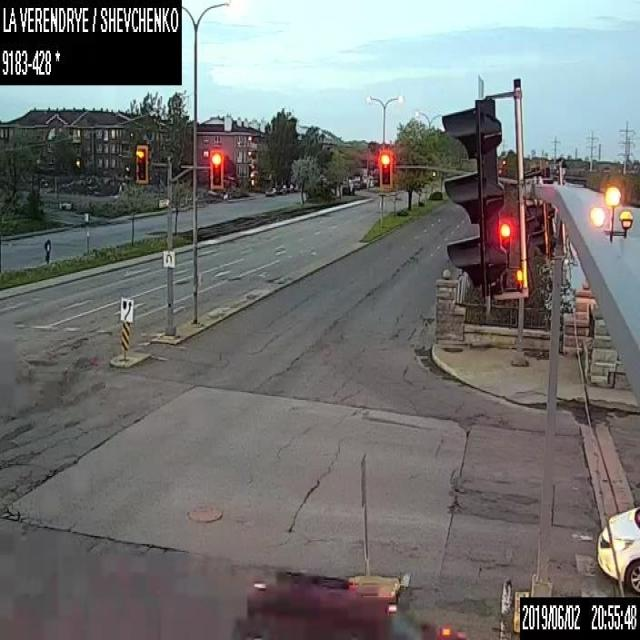pedestrian: (44, 237, 50, 264)
vehicle: (228, 566, 467, 638), (596, 504, 639, 595), (341, 179, 354, 193)
